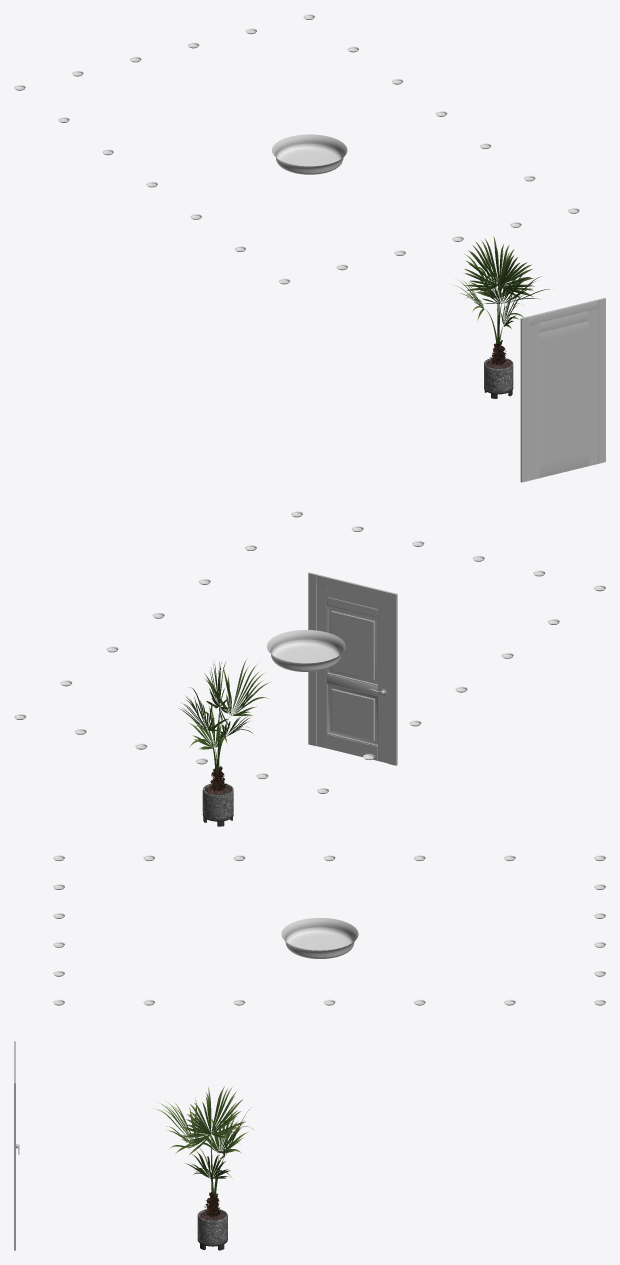
File: conferenceRoom_updatedmodels2.fbx
3 views of the same model, one above another, from view 1: azimuth 30°, elevation 25°; view 2: azimuth 150°, elevation 25°; view 3: azimuth 270°, elevation 25° (orthographic). The views are drawn at different scales.
Parts seen in each view (by area): view 1: SquareWindowFrame.006, SquareWindowFrame.005, washingtonia filifera 01, CeilingLightMain, CeilingLights, flower pot; view 2: SquareWindowFrame.006, SquareWindowFrame.005, washingtonia filifera 01, CeilingLightMain, CeilingLights, flower pot; view 3: washingtonia filifera 01, CeilingLightMain, CeilingLights, flower pot.
Part boxes in pixels (<box>): SquareWindowFrame.006: <box>529,308,597,480</box>; SquareWindowFrame.005: <box>520,298,605,482</box>; washingtonia filifera 01: <box>454,236,549,365</box>; CeilingLightMain: <box>272,134,347,174</box>; CeilingLights: <box>14,14,579,284</box>; flower pot: <box>484,358,513,398</box>; SquareWindowFrame.006: <box>317,584,388,763</box>; SquareWindowFrame.005: <box>308,572,397,765</box>; washingtonia filifera 01: <box>178,659,271,791</box>; CeilingLightMain: <box>266,630,345,671</box>; CeilingLights: <box>14,511,605,793</box>; flower pot: <box>202,783,233,826</box>; washingtonia filifera 01: <box>153,1086,253,1217</box>; CeilingLightMain: <box>281,918,358,958</box>; CeilingLights: <box>53,855,605,1005</box>; flower pot: <box>197,1209,227,1250</box>.
Size of the model in its own units: 365 by 251 by 552.
